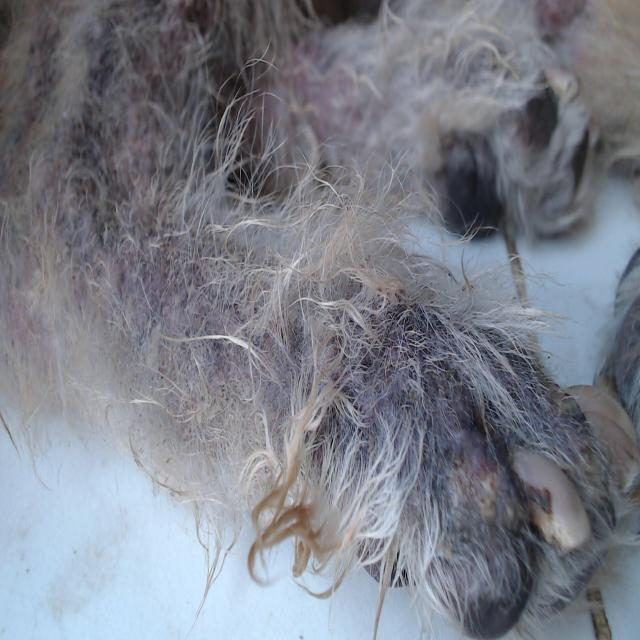demodicosis: (44, 36, 194, 237), (350, 309, 476, 474), (119, 264, 243, 403)
